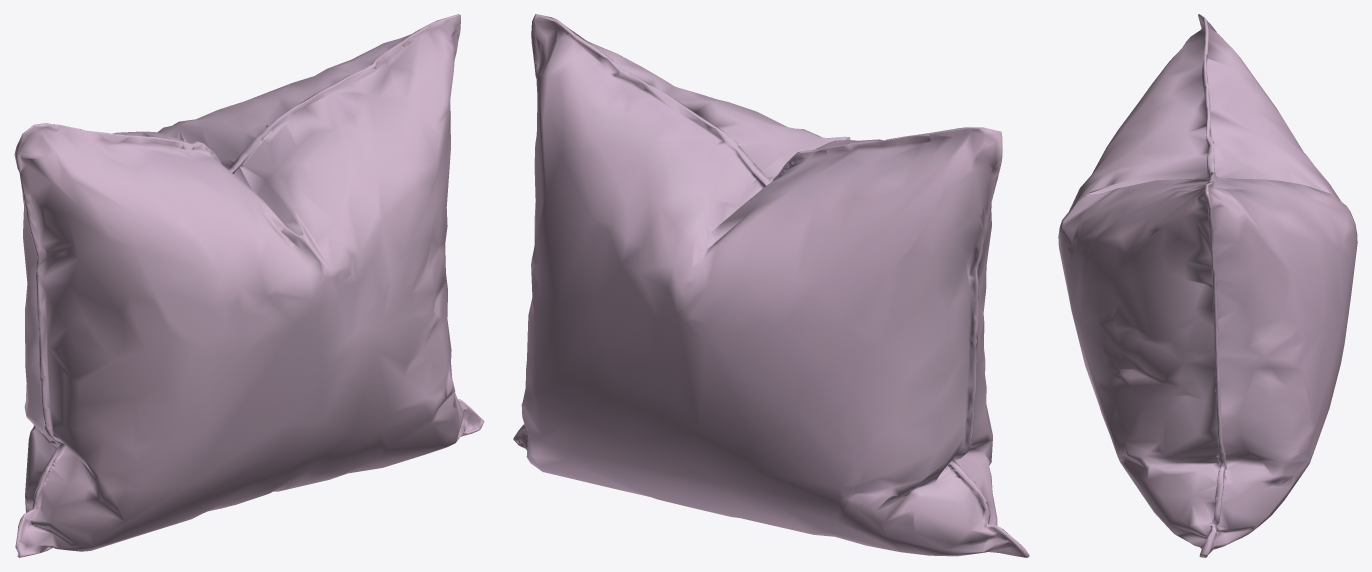
The model's file is pillow.glb.
3 views of the same model, side by side, from view 1: azimuth 30°, elevation 25°; view 2: azimuth 150°, elevation 25°; view 3: azimuth 270°, elevation 25° (orthographic). The views are drawn at different scales.
Parts seen in each view (by area): view 1: Mesh_0; view 2: Mesh_0; view 3: Mesh_0.
Part boxes in pixels (<box>): Mesh_0: <box>14,14,484,557</box>; Mesh_0: <box>513,14,1029,557</box>; Mesh_0: <box>1058,14,1357,557</box>.
Bounding box in the file's own units: 1.9 × 1.62 × 1.2.
1 material, 1 textured.
